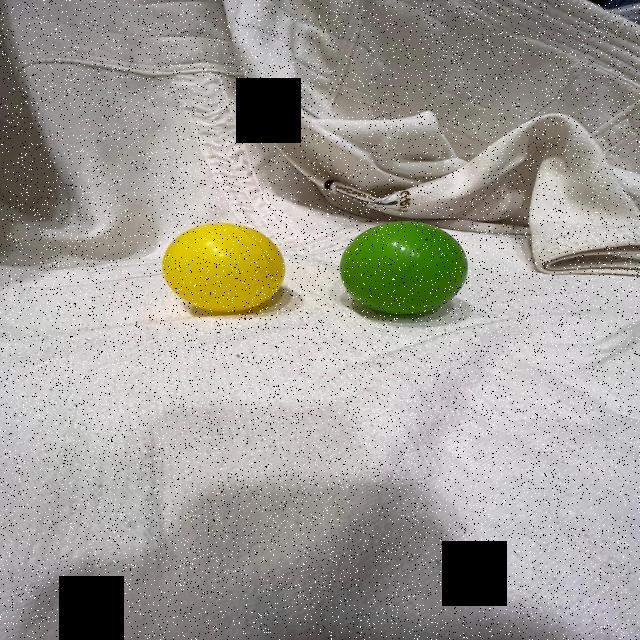ball: (337, 219, 470, 317), (160, 220, 286, 314)
